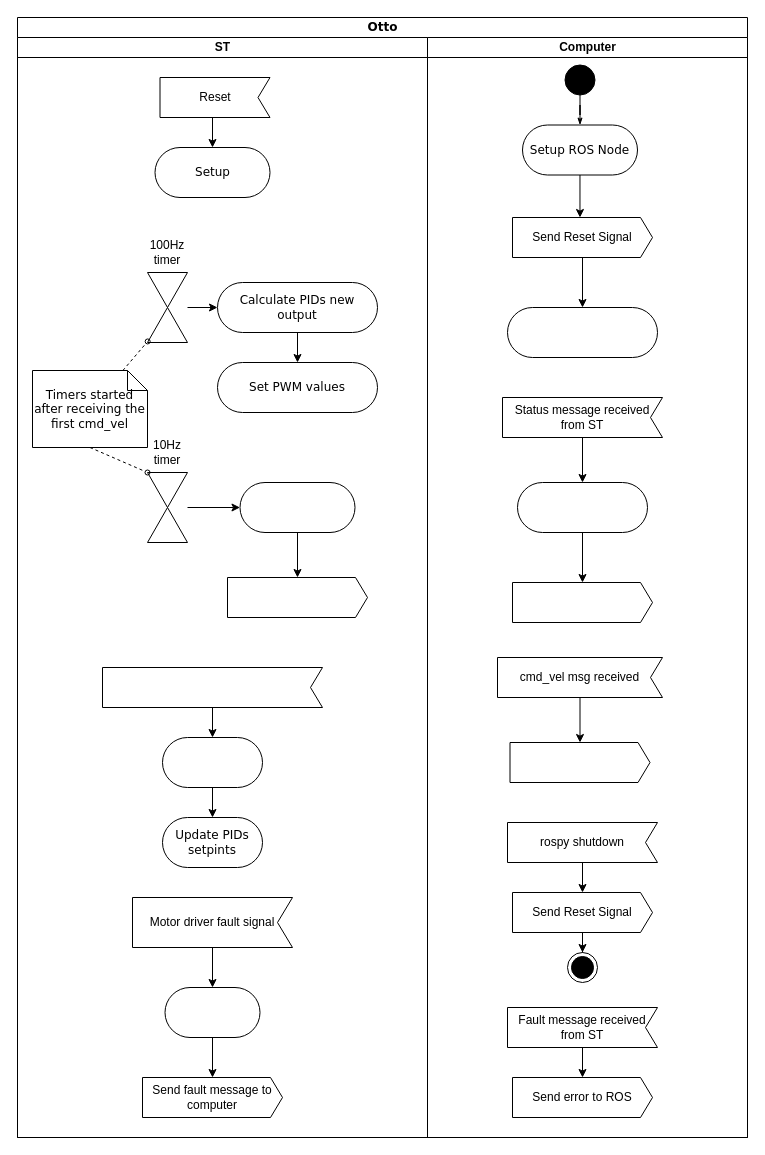
The diagram is 765 pixels wide and 1155 high, and some of its shapes have lost their labels. Here are the shapes that lost their labels. From the top down, the centre of each, then its label:
At [582,332]: "Wait for new messages".
At [297,507]: "Calculate linear and angular velocities".
At [582,507]: "Calculate odometry".
At [297,597]: "Send status message to computer".
At [582,602]: "Publish odometry msg".
At [212,687]: "Velocity command received from computer".
At [212,762]: "Calulate new setpoints".
At [579,762]: "Send command to ST".
At [212,1012]: "Brake motors".
